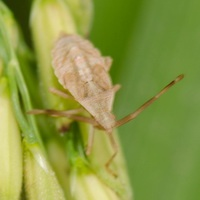insect: (27, 74, 183, 166)
